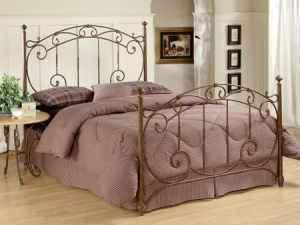Cama: (24, 22, 287, 200)
